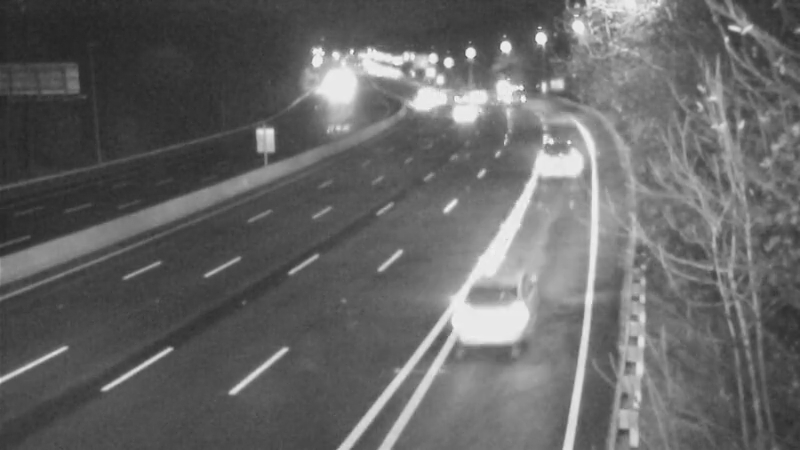vehicle: (448, 270, 558, 380), (511, 128, 591, 208), (486, 67, 536, 117), (451, 71, 501, 121), (396, 78, 446, 128), (435, 82, 485, 132)
